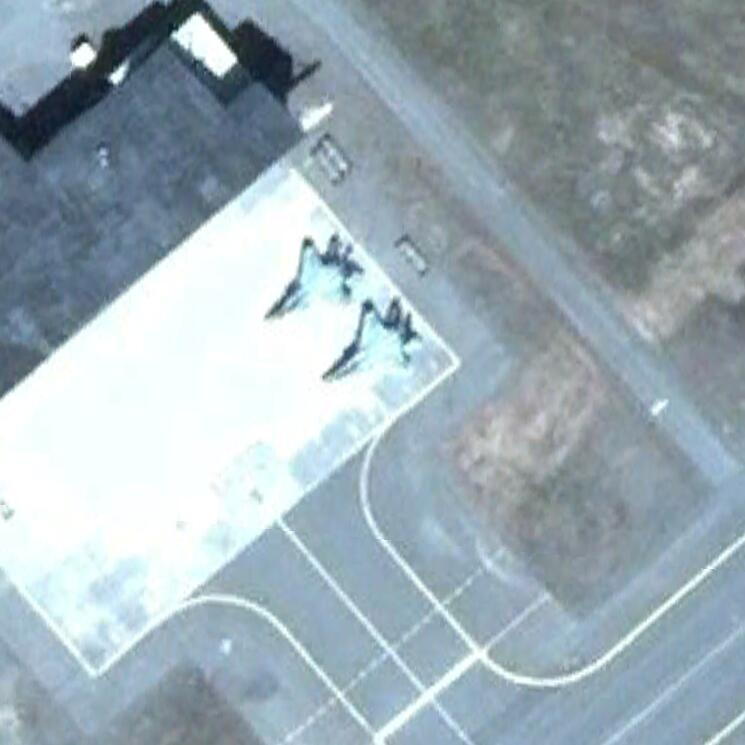A13: (262, 234, 363, 324), (323, 298, 421, 384)
